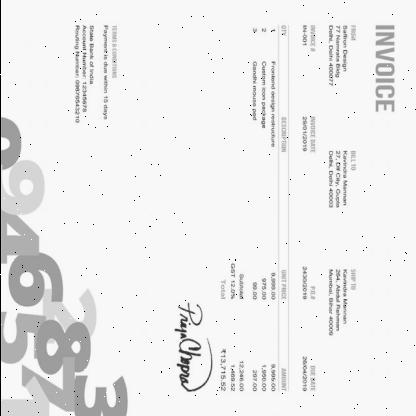Paragraph: (70, 20, 119, 126), (216, 260, 246, 396), (326, 266, 358, 338), (372, 22, 396, 114), (326, 22, 358, 89), (326, 148, 357, 210), (299, 354, 317, 394), (300, 113, 316, 155), (300, 262, 316, 304), (300, 22, 316, 53)
Table: (248, 23, 288, 394)
